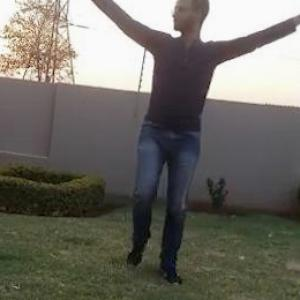takeoff: (86, 0, 299, 271)
